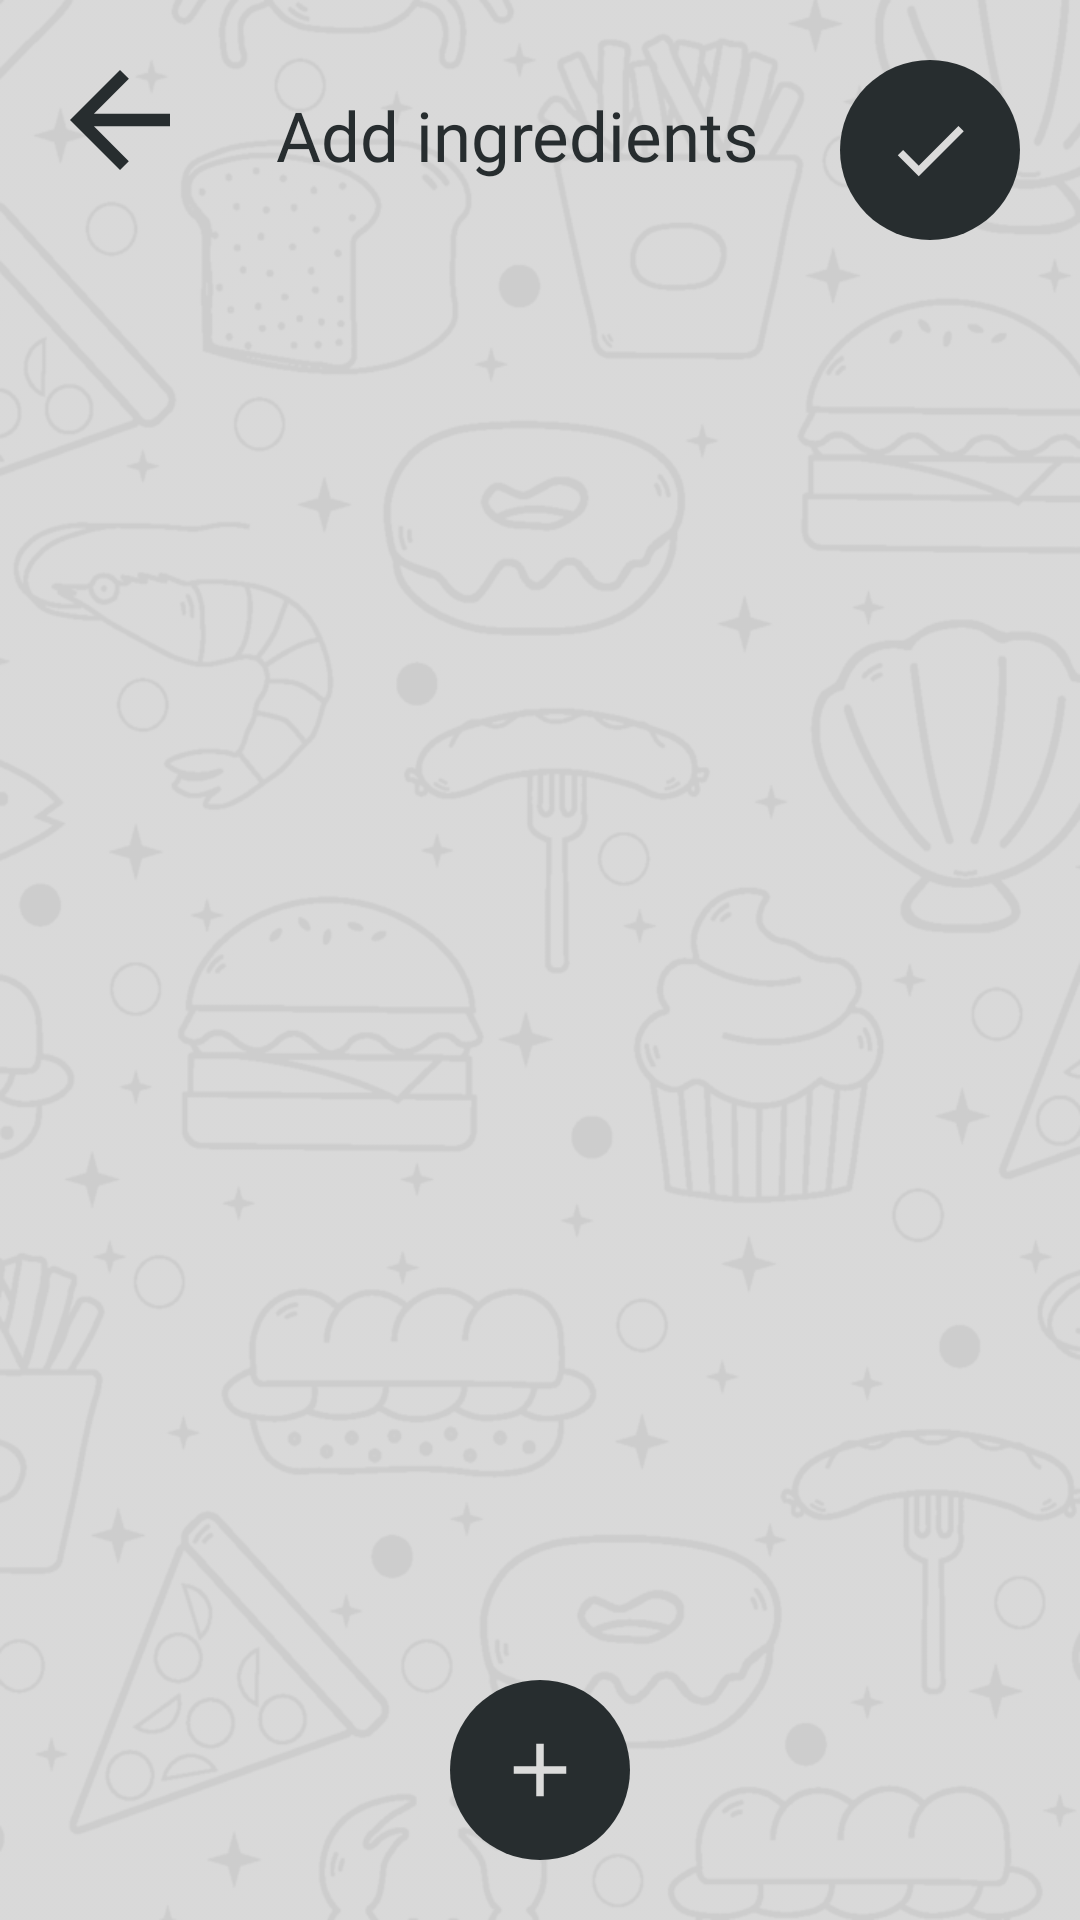

Named icons in this screenshot (1080px x 1920px) and their bounding boxes, (x1, y1, x2, y2):
add: (450, 1680, 630, 1860)
arrow back: (70, 70, 170, 170)
check: (840, 60, 1020, 240)
